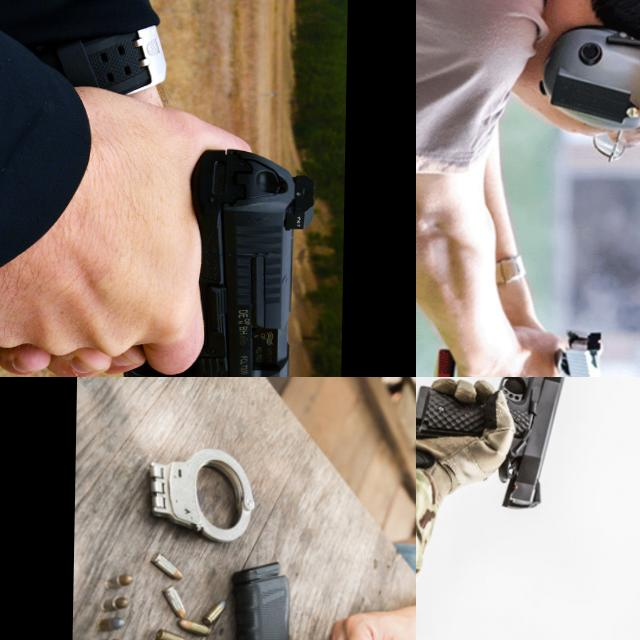handgun: (118, 144, 319, 377), (143, 557, 320, 640), (488, 377, 575, 513), (449, 377, 561, 437), (546, 323, 622, 377)
